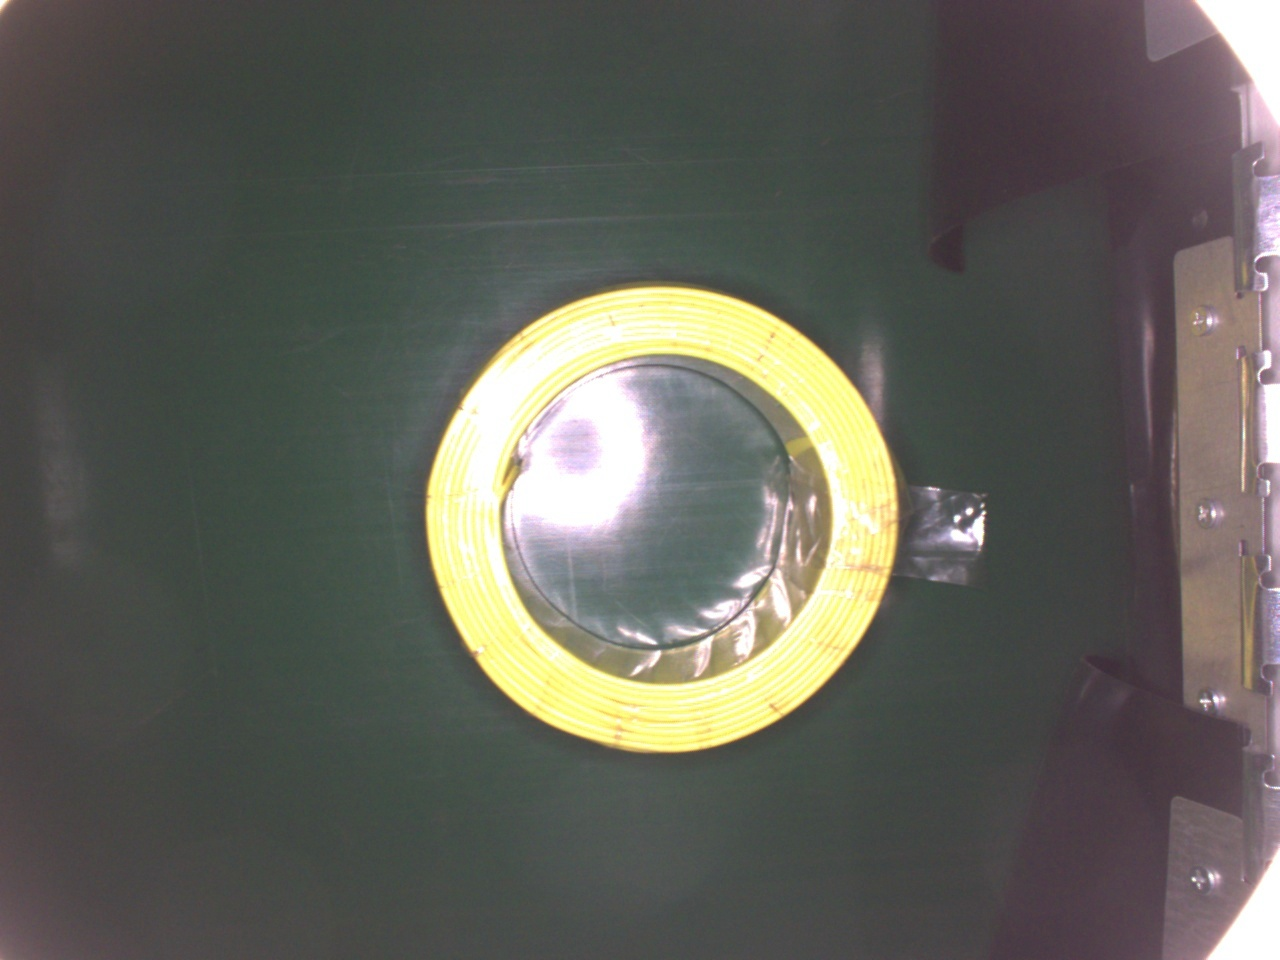yellow: (422, 276, 898, 763)
